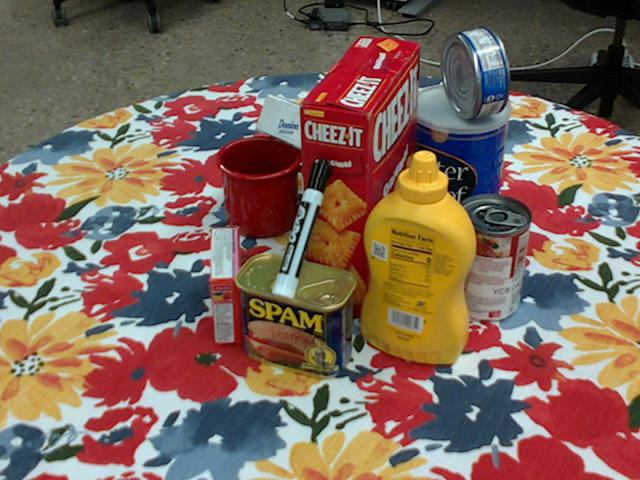cracker_box: (298, 35, 421, 317)
gelatin_box: (210, 226, 241, 343)
large_marker: (272, 157, 331, 298)
master_chef_can: (406, 83, 509, 246)
mug: (217, 136, 328, 238)
mustard_bottle: (361, 149, 477, 365)
potted_meat_can: (235, 252, 357, 378)
sugar_box: (257, 94, 413, 184)
tomato_soup_can: (451, 194, 532, 322)
tuna_fish_can: (440, 26, 510, 118)
